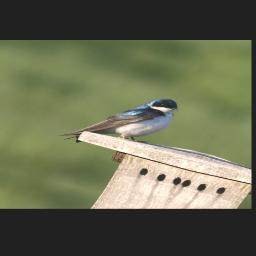Swallow: (54, 80, 187, 163)
